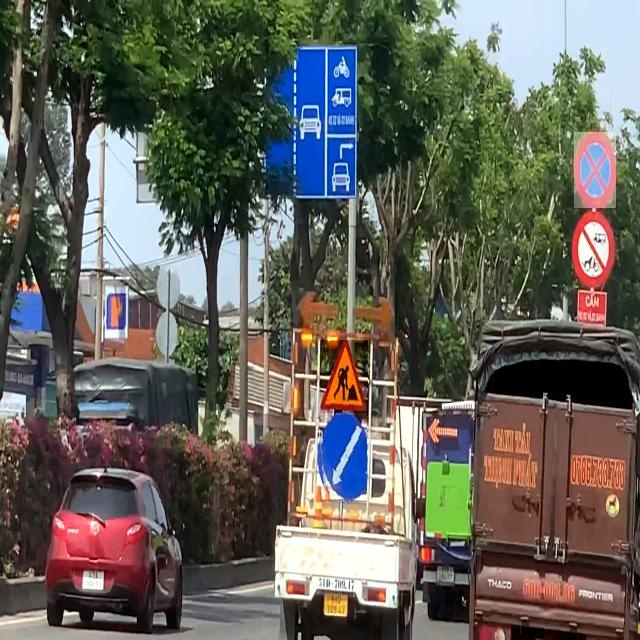bien_cam: (317, 413, 367, 503), (320, 340, 368, 416), (574, 132, 616, 208)
